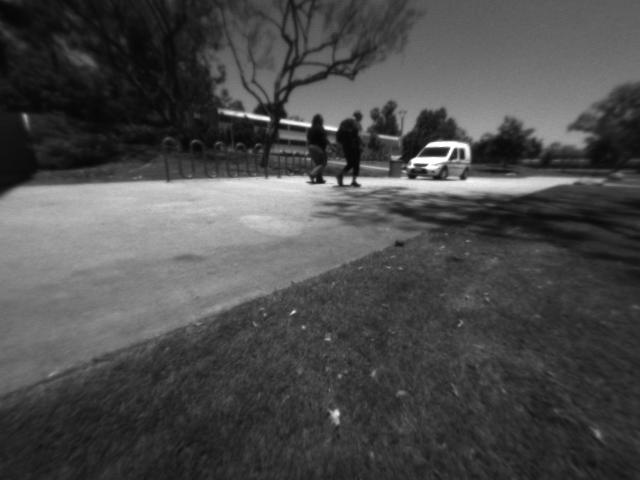dogtoy: (385, 228, 416, 254)
